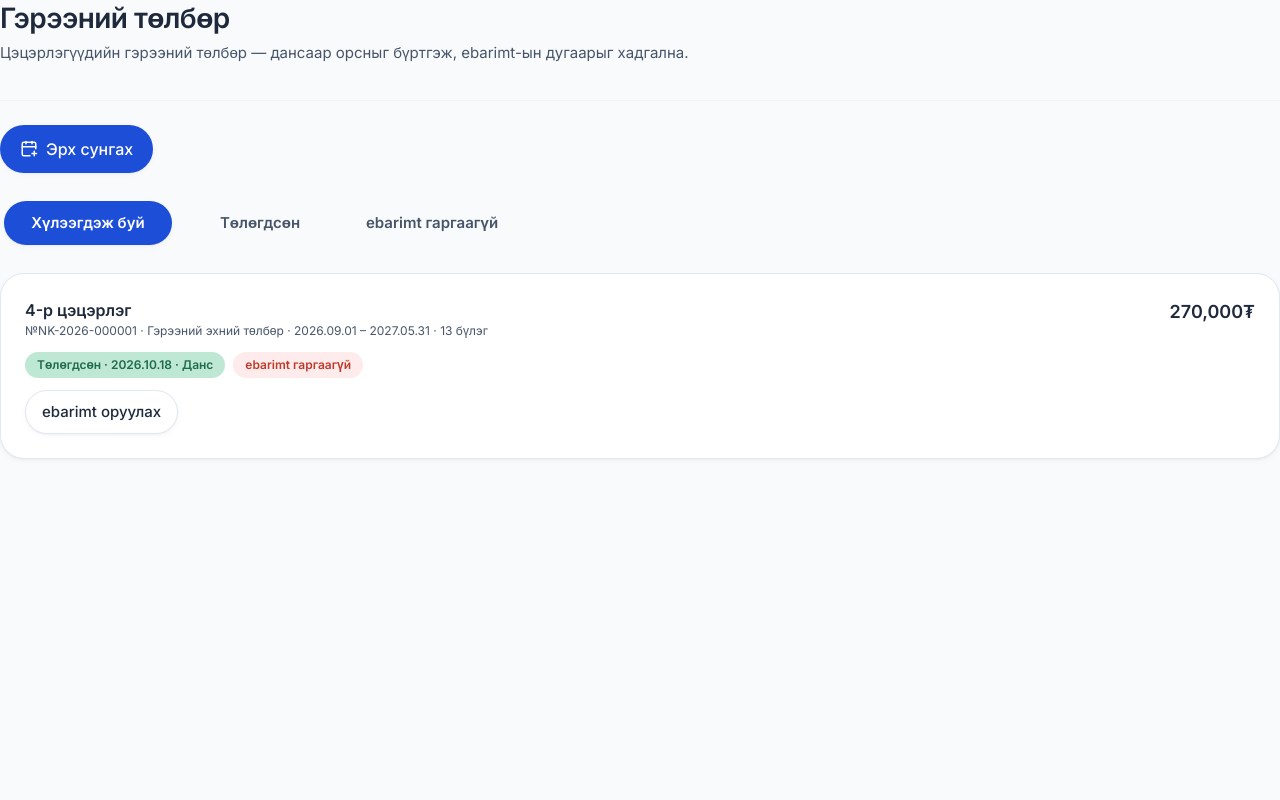
Test: the operator's contract payments › shows which paid periods still have no ebarimt, and keeps the number
Check: the text "ebarimt гаргаагүй" is shown, box [233, 352, 363, 378]
Step 1. Click the button "ebarimt оруулах" → (102, 412), box [25, 390, 178, 434]
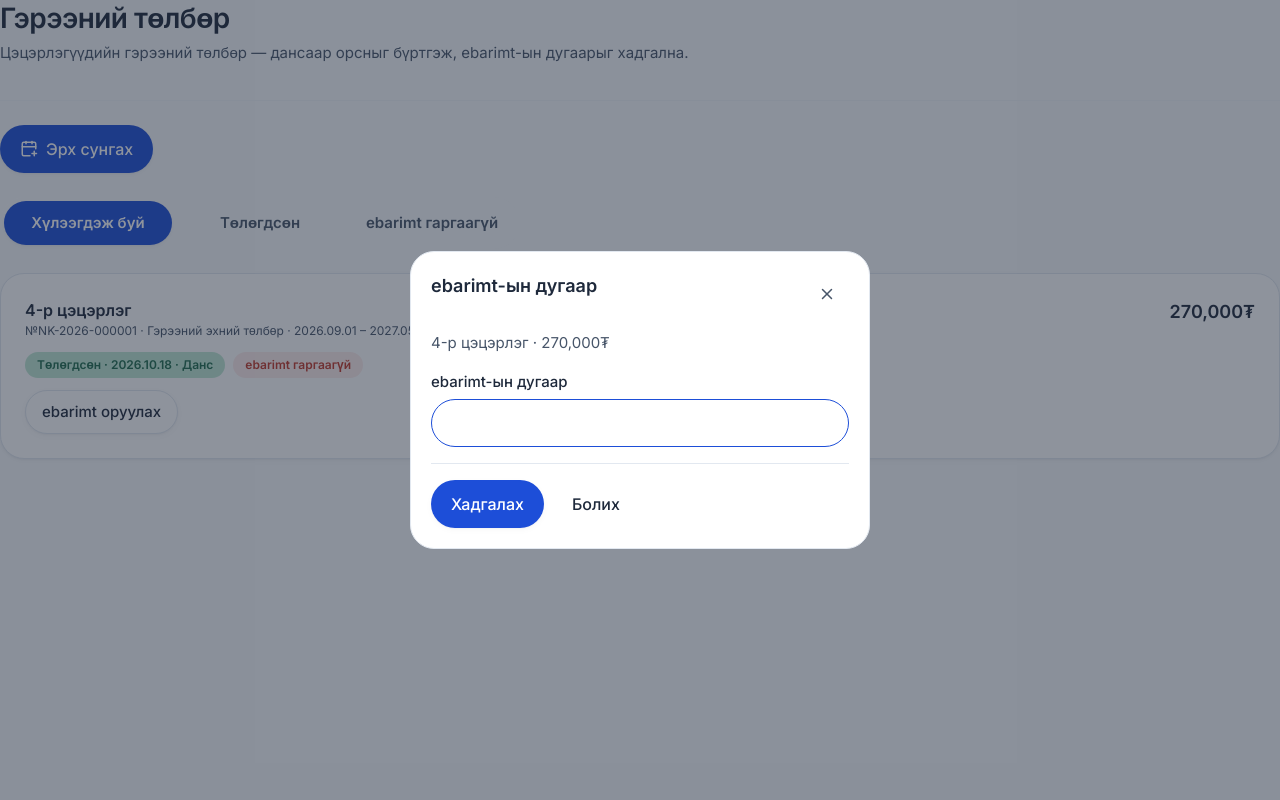
Step 2. Type "EB-77" into the field labelled "ebarimt-ын дугаар" → (640, 423), box [431, 399, 849, 447]
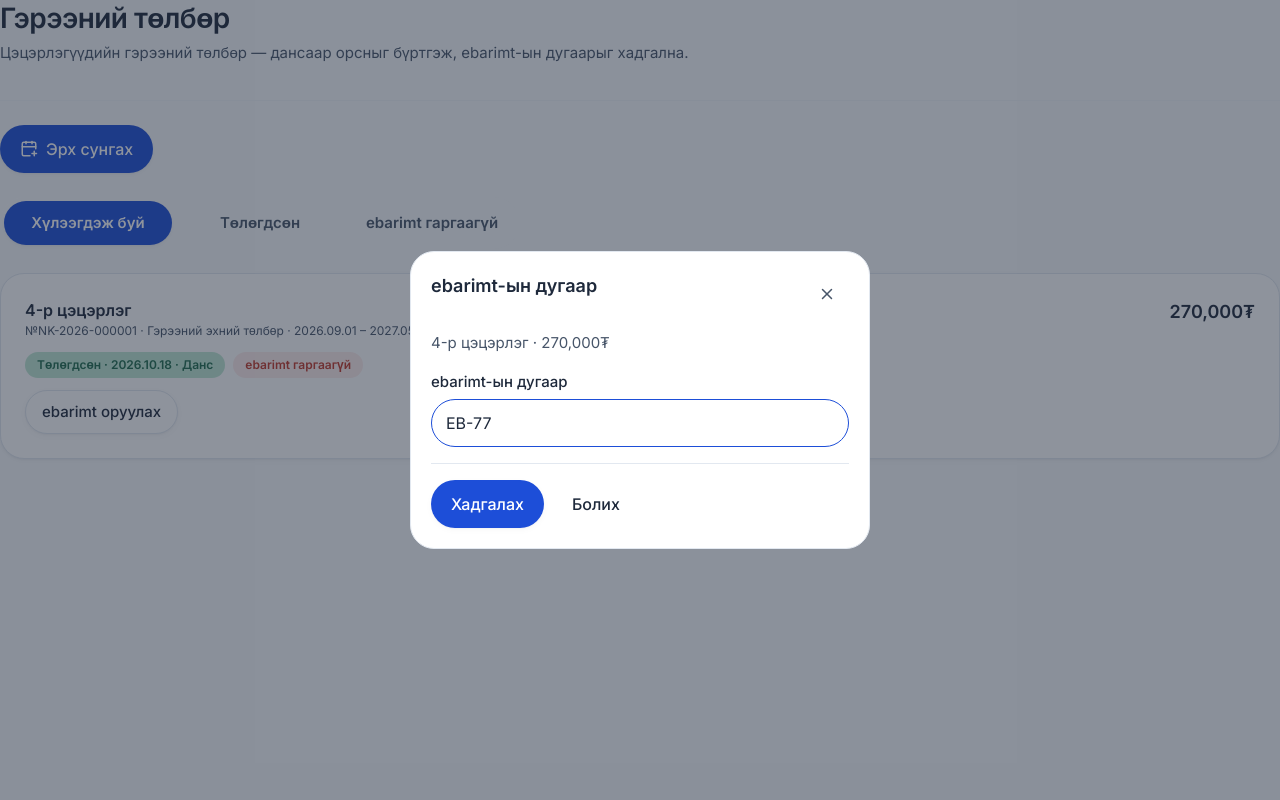
Step 3. Click the button "Хадгалах" → (487, 504), box [431, 480, 544, 528]
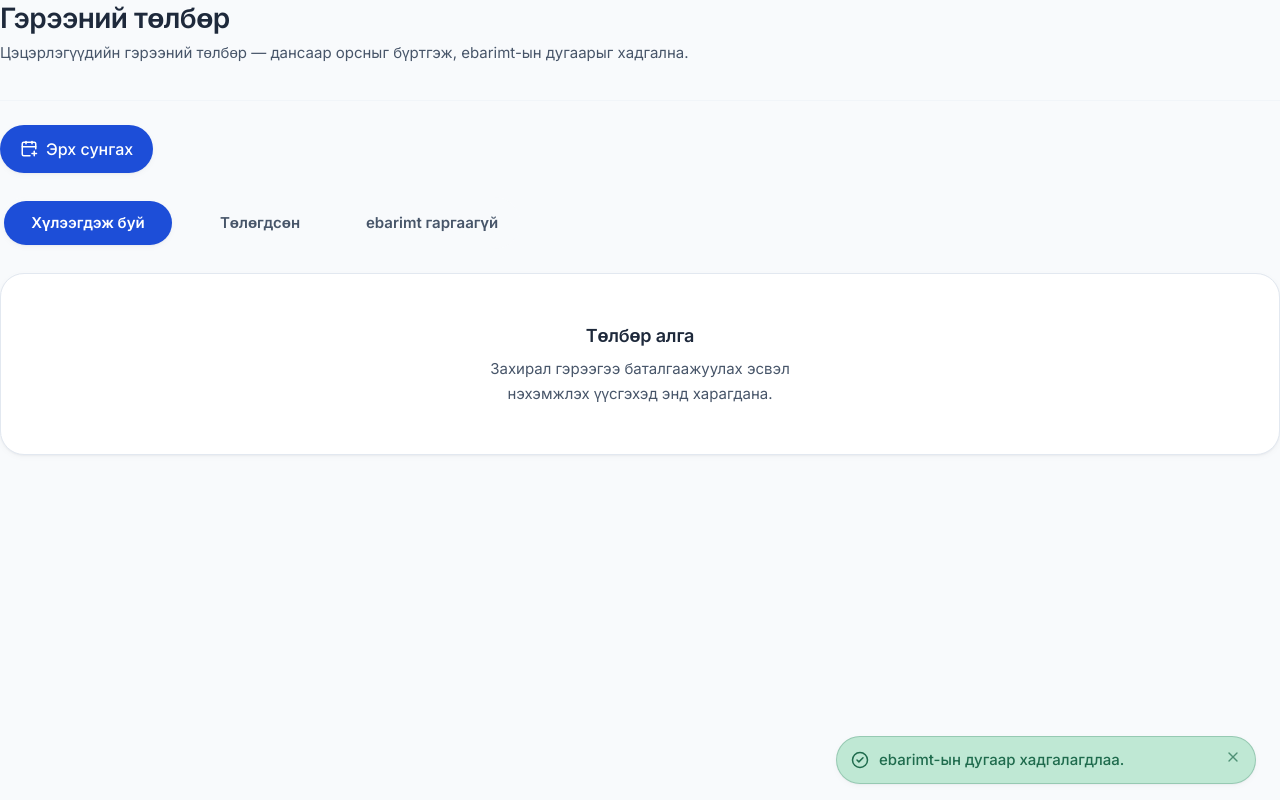
Check: the text "ebarimt-ын дугаар хадгалагдлаа." is shown, box [879, 750, 1124, 768]
